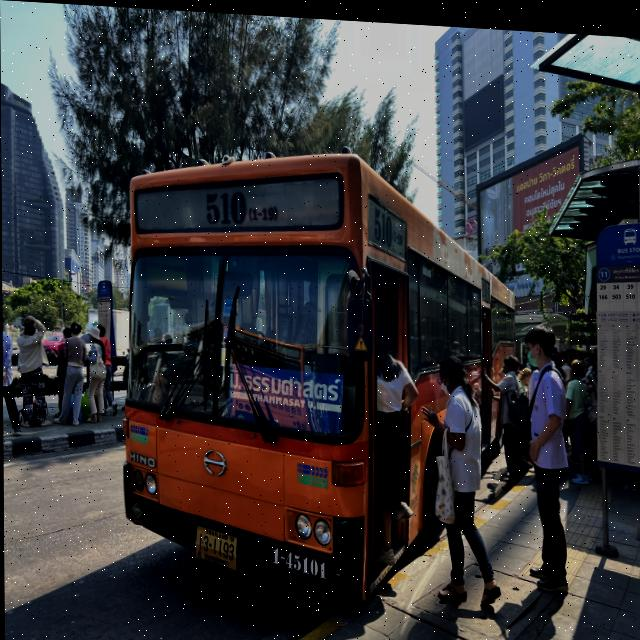BMTA-bus: (119, 138, 515, 606)
Bus-Line-Number: (200, 180, 284, 227)
Destination-Sign-Normal: (229, 362, 343, 431)
